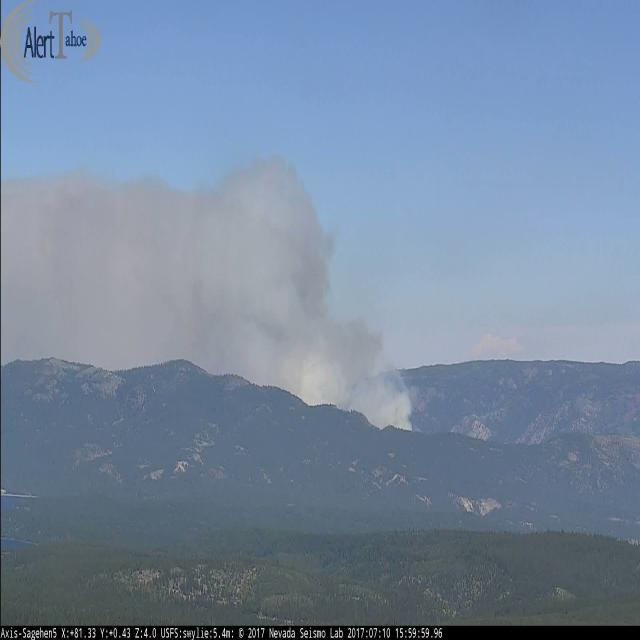smoke: (0, 151, 413, 437)
